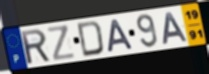9: (135, 13, 159, 49)
A: (107, 18, 136, 54), (162, 11, 190, 46)
D: (76, 20, 106, 59)
R: (19, 28, 53, 66)
Z: (45, 23, 77, 62)
